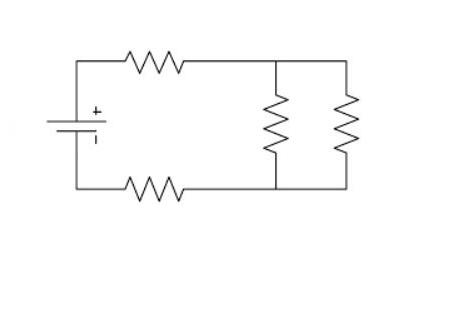resistor: (244, 78, 304, 164), (104, 165, 212, 210), (103, 38, 192, 92), (325, 82, 373, 160)
